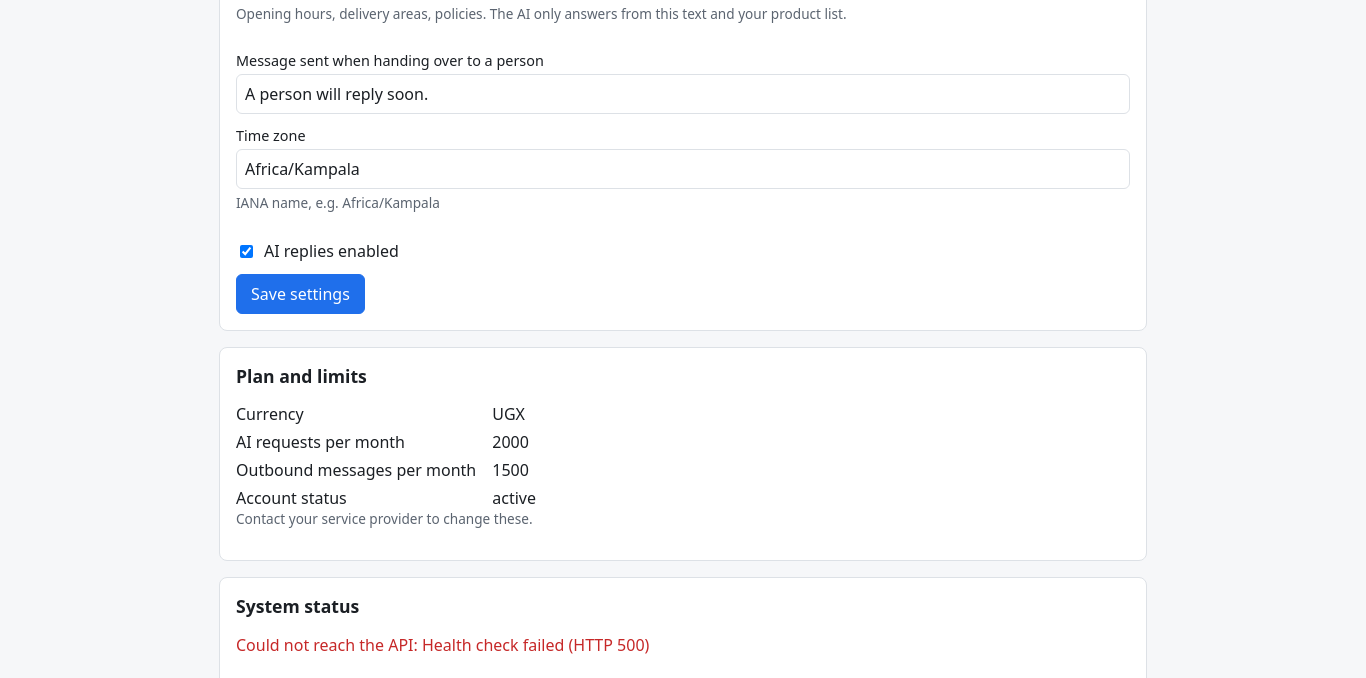
settings page › shows server validation errors next to the field
(page scrolled)
Click the button "Save settings": (300, 294) 236,274 -> 365,314
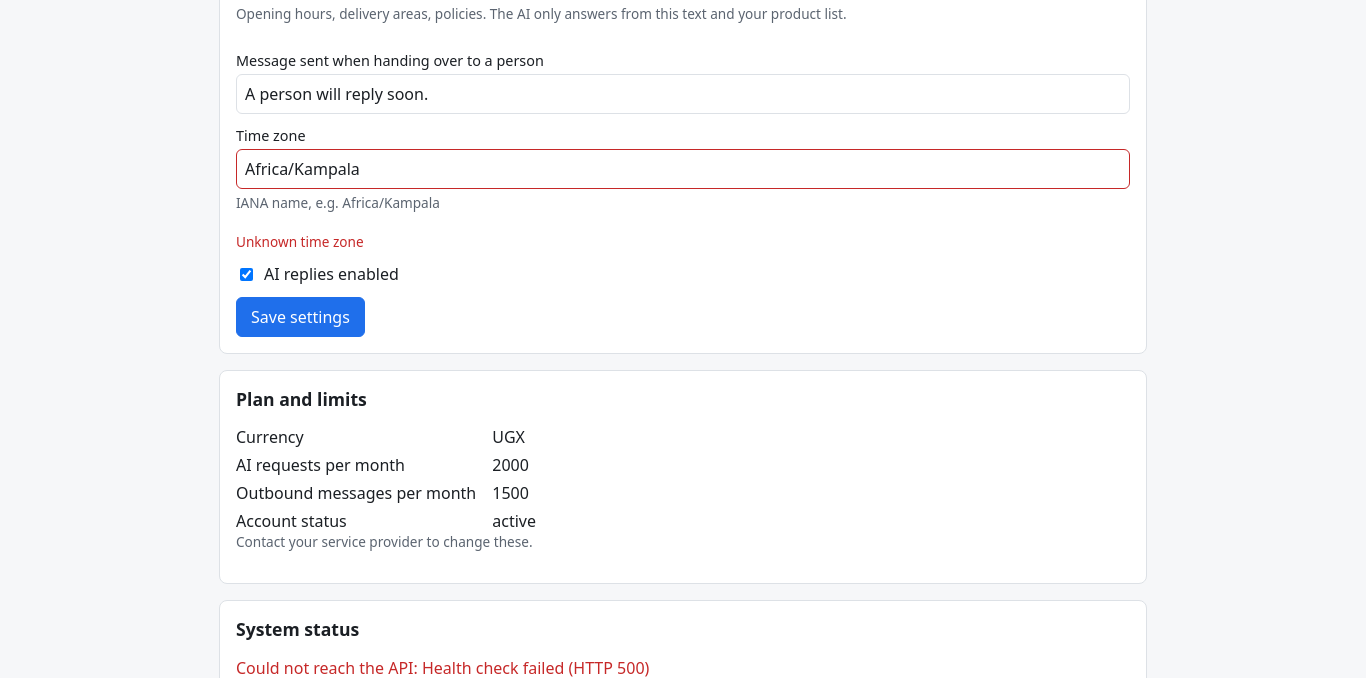
Expected: the text "Unknown time zone" is shown, 236,232 -> 364,251
